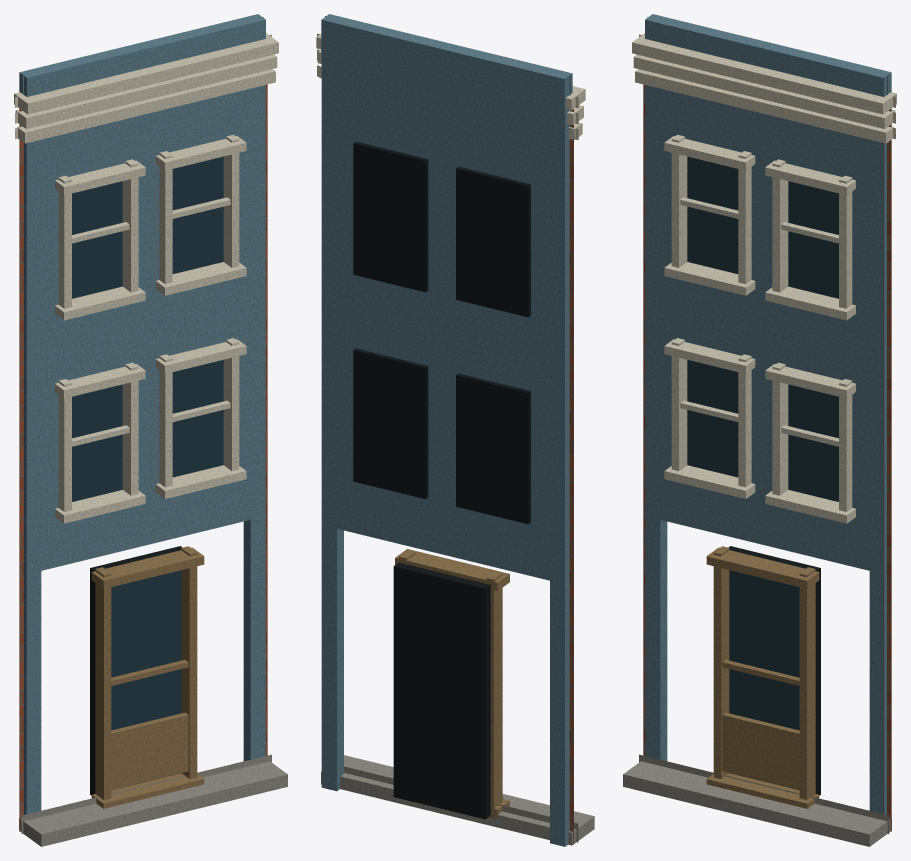
File: VICT11_lod2.glb
The picture shows the model from 3 angles, left to right: view 1: azimuth 30°, elevation 25°; view 2: azimuth 150°, elevation 25°; view 3: azimuth 330°, elevation 25°; orthographic projection.
Parts seen in each view (by area): view 1: VICT11_FRONT_LOD2; view 2: VICT11_FRONT_LOD2; view 3: VICT11_FRONT_LOD2.
Part boxes in pixels (x1=…): VICT11_FRONT_LOD2: x1=14, y1=14, x2=287, y2=846; VICT11_FRONT_LOD2: x1=316, y1=14, x2=594, y2=846; VICT11_FRONT_LOD2: x1=623, y1=14, x2=896, y2=846.
Size of the model in its own units: 3.44 by 9.66 by 0.68.
Materials: 8 (6 with a texture image).
